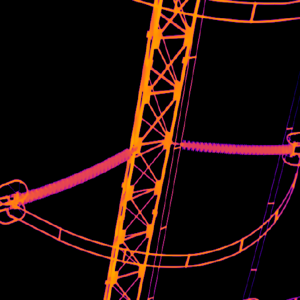insulator: (17, 146, 132, 204), (179, 136, 294, 156)
